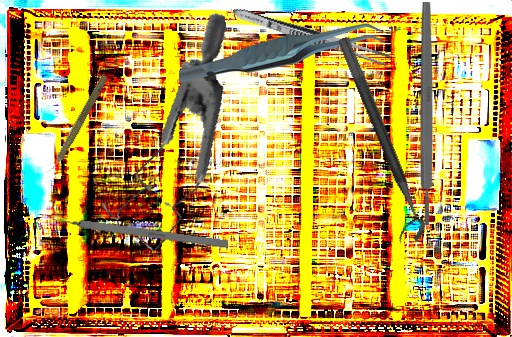Dressing Forceps: (230, 4, 392, 68)
Fixation Ring: (320, 35, 431, 249)
Handpiece: (42, 72, 111, 178)
Hook Surgical: (46, 214, 229, 249)
Scalpel Handle: (420, 2, 433, 225)
Speculum: (73, 11, 263, 262)
Tissue Forceps: (179, 23, 385, 83)
